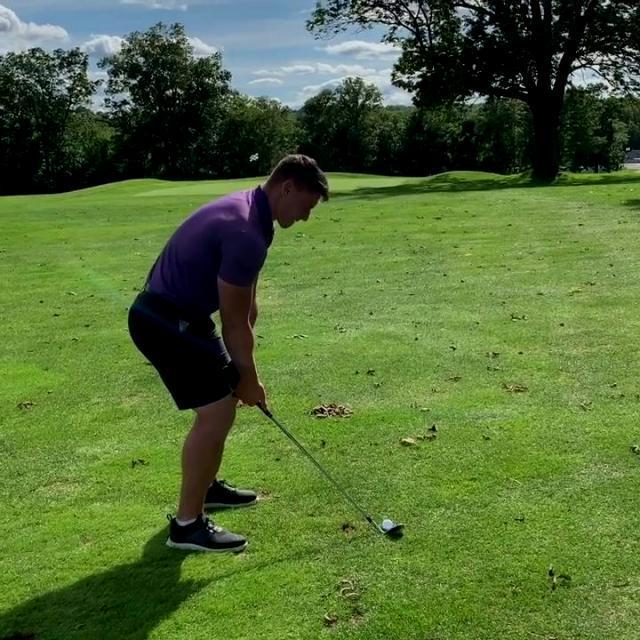ClubHead: (388, 524, 406, 536)
GolfBall: (381, 519, 394, 530)
